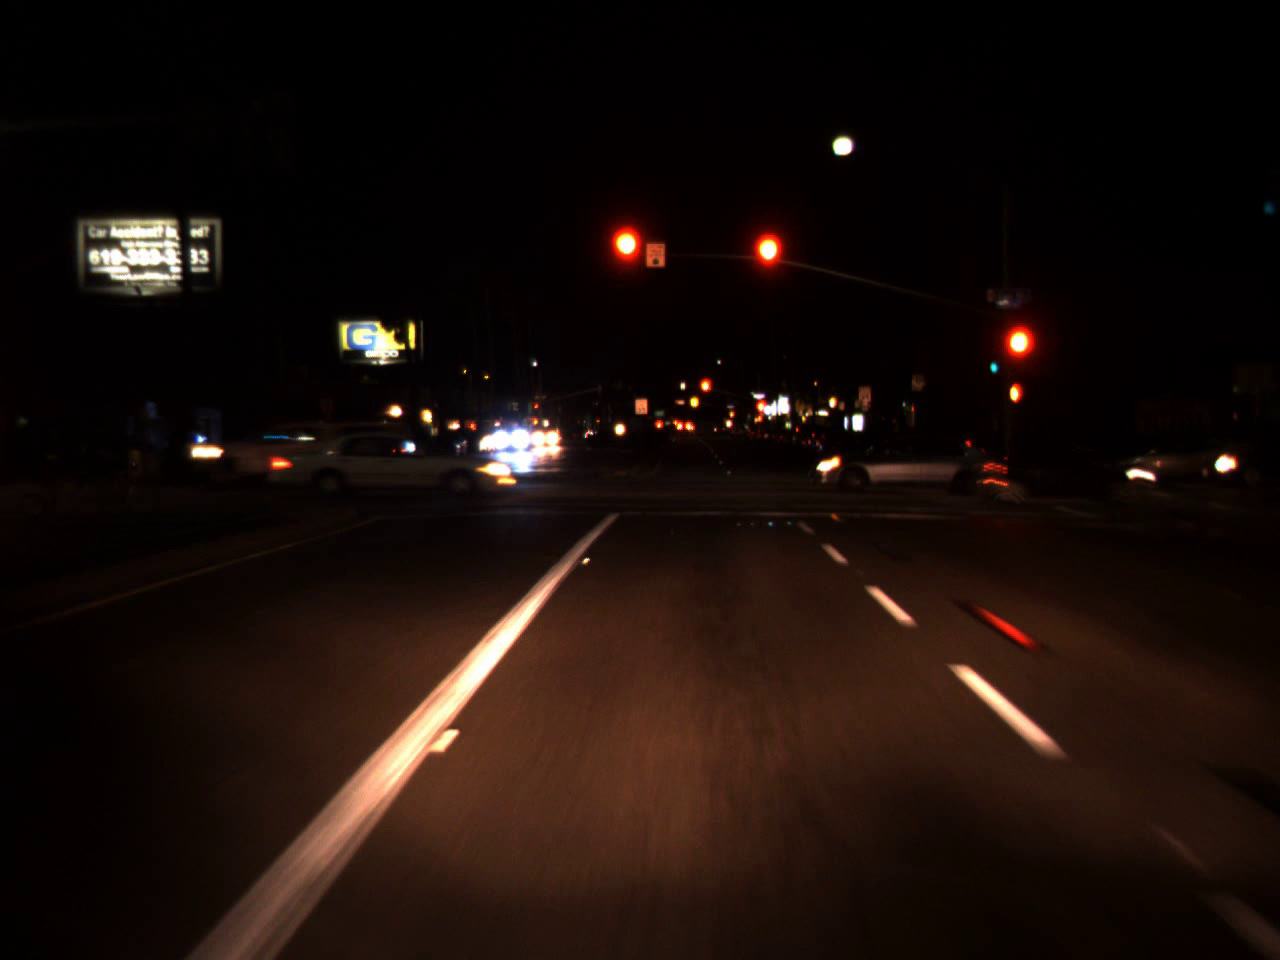stop: (993, 320, 1033, 398), (750, 227, 787, 305), (608, 226, 645, 301), (698, 377, 711, 409), (753, 398, 768, 419), (533, 403, 539, 413)
warning: (690, 389, 700, 414), (728, 408, 734, 419)
